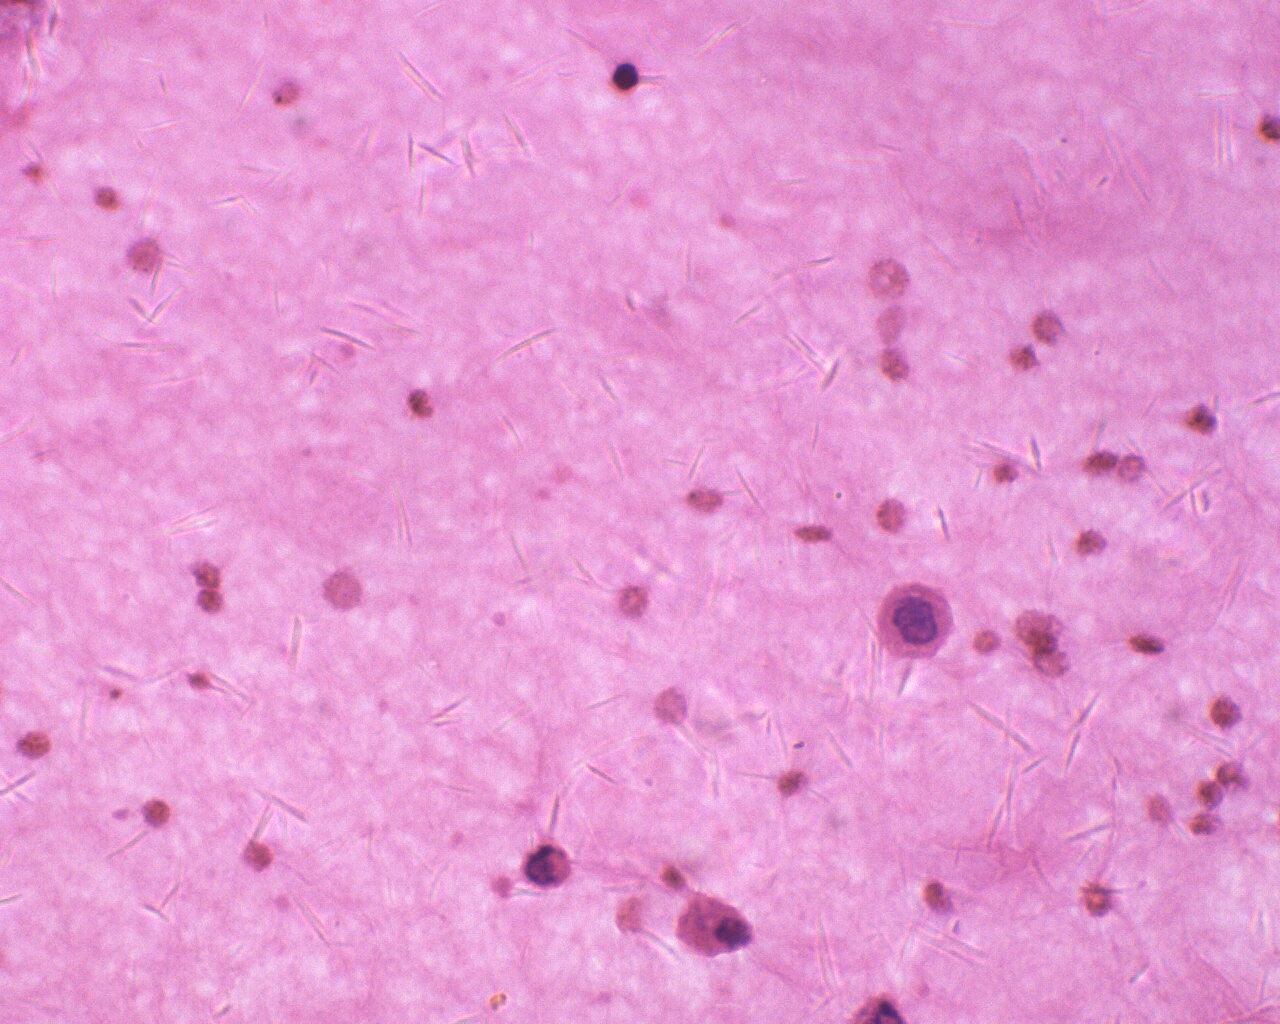lymph: (602, 53, 646, 95)
meso: (870, 582, 959, 661)
